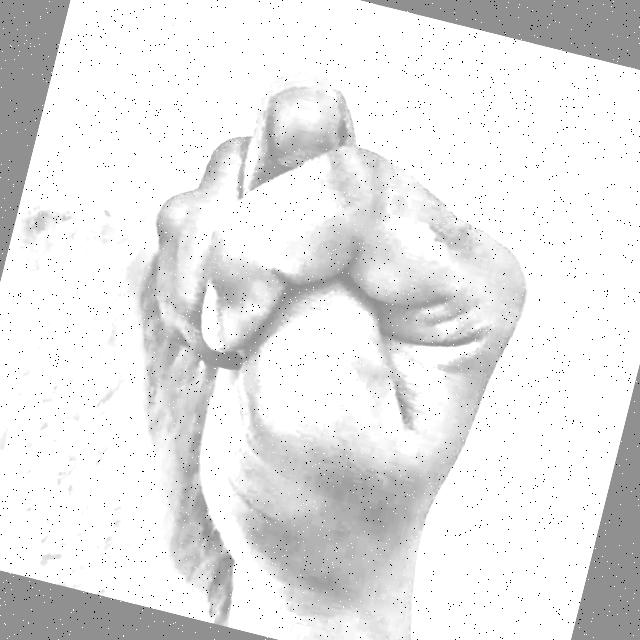Ta: (50, 6, 591, 640)
